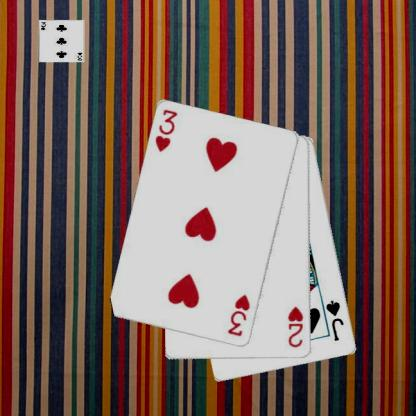2H: (286, 304, 305, 349)
3H: (152, 106, 179, 154), (224, 292, 252, 338)
JS: (324, 297, 346, 342)
